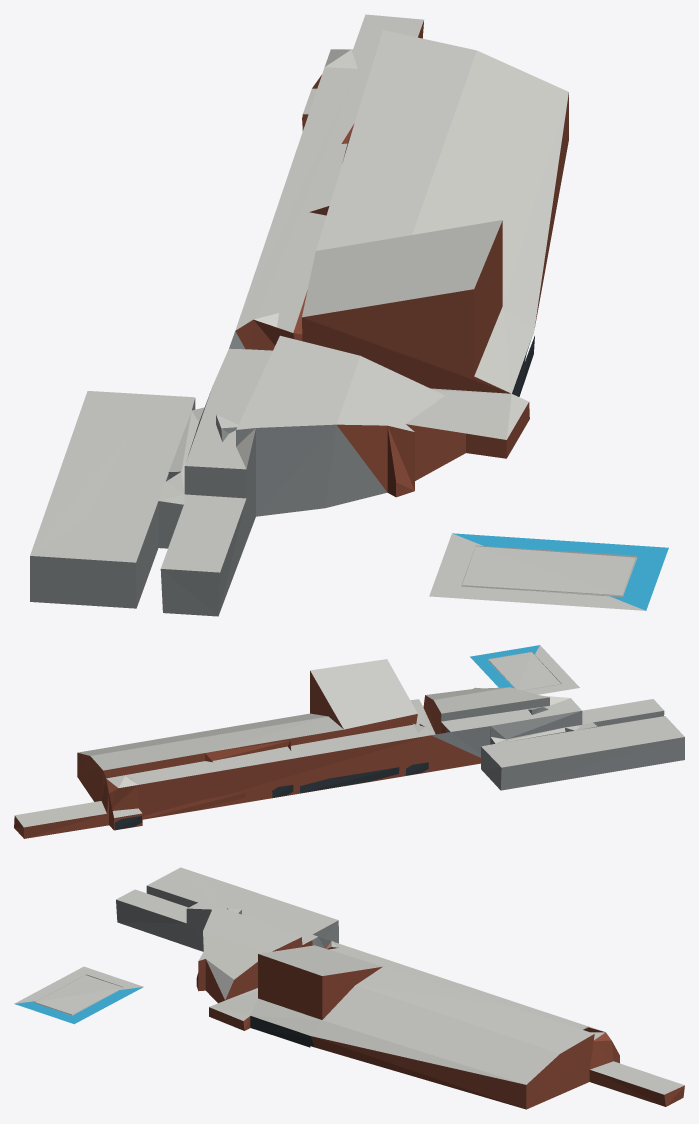
File: sloterparkbad.lod2.glb
3 renders of one model, top to bottom at view 1: azimuth 30°, elevation 25°; view 2: azimuth 150°, elevation 25°; view 3: azimuth 270°, elevation 25°, orthographic. The views are drawn at different scales.
Parts seen in each view (by area): view 1: lod2; view 2: lod2; view 3: lod2.
Boxes of the visible parts, left/top/right/bottom form: lod2: left=30, top=14, right=668, bottom=616; lod2: left=14, top=645, right=684, bottom=838; lod2: left=14, top=867, right=684, bottom=1109.
Size of the model in its own units: 152 by 21.75 by 197.
